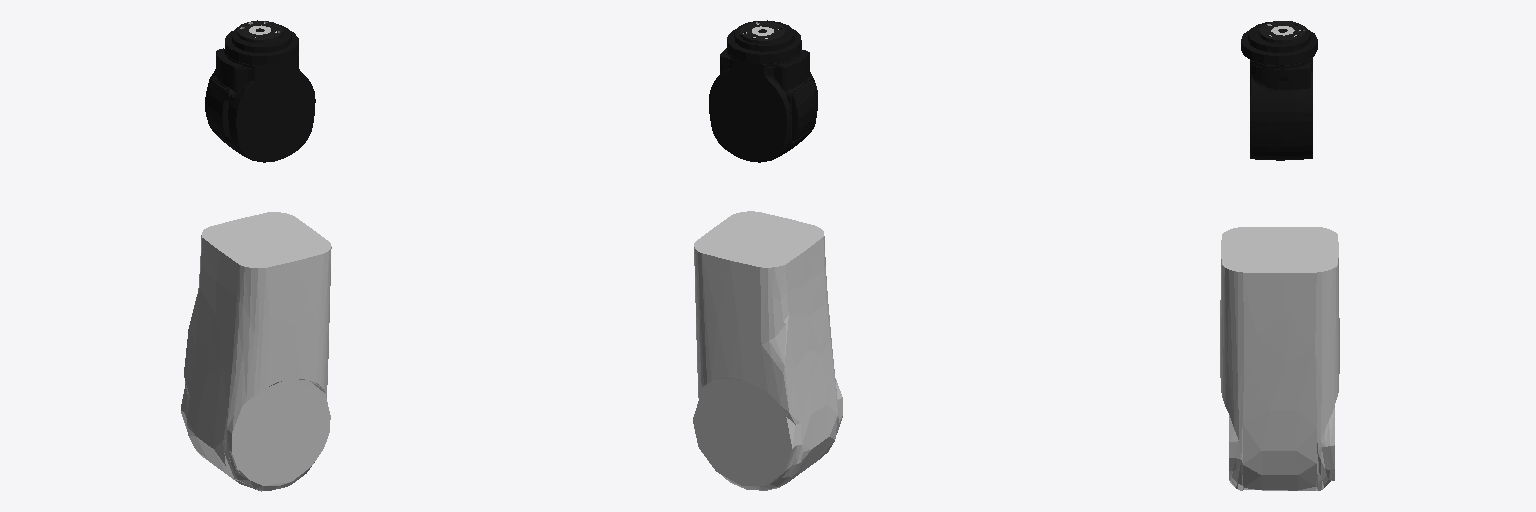
The robot description file, URDF, robot "DensoVS060v3":
<?xml version="1.0"?>
<robot name="DensoVS060v3">

<!-- <link name="world"/>

<joint name="world_to_base" type="fixed">
  <parent link="world"/>
  <child link="link0"/>
  <origin xyz="0 0 0.2" rpy="0 0 0"/>
</joint> -->

  <!-- Link 0 (base) -->
  <link name="link0">
    <visual>
      <geometry>
        <mesh filename="meshes/DensoVS060Link0.dae"/>
        <!-- <box size="0.05 0.05 0.2"/> -->
      </geometry>
    </visual>
  </link>

  <!-- Link 1 -->
  <link name="link1">
    <visual>
      <geometry>
        <mesh filename="meshes/DensoVS060Link1.dae"/>
        <!-- <box size="0.05 0.05 0.2"/> -->
      </geometry>
    </visual>
  </link>

  <!-- Joint 1 -->
  <joint name="joint1" type="revolute">
    <parent link="link0"/>
    <child link="link1"/>
    <!-- <origin xyz="0 0 0.148" rpy="1.5708 0 3.1416"/> -->
      <origin xyz="0 0 0.148" rpy="0 0 0"/>
    <axis xyz="0 0 1"/>
    <limit lower="-2.967" upper="2.967" effort="10" velocity="1"/>
  </joint>

  <!-- Link 2 -->
  <link name="link2">
    <visual>
      <geometry>
        <mesh filename="meshes/DensoVS060Link2.dae"/>
        <box size="0.05 0.05 0.2"/>
      </geometry>
    </visual>
  </link>

<link name="link1b" />
<joint name="link1_to_link1b" type="fixed">
  <parent link="link1"/>
  <child link="link1b"/>
  <origin xyz="0 0 0" rpy="-1.5708 0 0"/>
</joint>

<joint name="joint2" type="revolute">
  <parent link="link1b"/>
  <child link="link2"/>
  <origin xyz="0 0 0" rpy="0 0 -3.1416"/>
  <axis xyz="0 0 1"/>
  <limit lower="-2.0944" upper="2.0944" effort="10" velocity="1"/>
</joint>

  <!-- Joint 2
  <joint name="joint2" type="revolute">
    <parent link="link1"/>
    <child link="link2"/>
    <origin xyz="0 0 0" rpy="-1.5708 0 0"/>
    <axis xyz="0 0 1"/>
    <limit lower="-2.0944" upper="2.0944" effort="10" velocity="1"/>
  </joint> -->

  <!-- Link 3 -->
  <link name="link3">
    <visual>
      <geometry>
        <mesh filename="meshes/DensoVS060Link3.dae"/>
        <!-- <box size="0.05 0.05 0.2"/> -->
      </geometry>
    </visual>
  </link>

  <!-- Joint 3 -->
  <joint name="joint3" type="revolute">
    <parent link="link2"/>
    <child link="link3"/>
    <origin xyz="0 0.305 0" rpy="0 0 0"/>
    <axis xyz="0 0 1"/>
    <limit lower="-2.1817" upper="2.7053" effort="10" velocity="1"/>
  </joint>

  <!-- Link 4 -->
  <link name="link4">
    <visual>
      <geometry>
        <mesh filename="meshes/DensoVS060Link4.dae"/>
        <!-- <box size="0.05 0.05 0.2"/> -->
      </geometry>
    </visual>
  </link>

  <!-- Joint 4 -->
  <joint name="joint4" type="revolute">
    <parent link="link3"/>
    <child link="link4"/>
    <origin xyz="0 0 0" rpy="-1.5708 0 0"/>
    <axis xyz="0 0 1"/>
    <limit lower="-4.7124" upper="4.7124" effort="10" velocity="1"/>
  </joint>

  <!-- Link 5 -->
  <link name="link5">
    <visual>
      <geometry>
        <mesh filename="meshes/DensoVS060Link5.dae"/>
        <!-- <box size="0.05 0.05 0.2"/> -->
      </geometry>
    </visual>
  </link>

  <!-- Joint 5 -->
  <joint name="joint5" type="revolute">
    <parent link="link4"/>
    <child link="link5"/>
    <origin xyz="0 0 0.3" rpy="1.5708 0 0"/>
    <axis xyz="0 0 1"/>
    <limit lower="-2.0944" upper="2.0944" effort="10" velocity="1"/>
  </joint>

  <!-- Link 6 (end-effector) -->
  <link name="link6">
    <visual>
      <geometry>
        <mesh filename="meshes/DensoVS060Link6.dae"/>
        <!-- <box size="0.05 0.05 0.2"/> -->
      </geometry>
    </visual>
  </link>

  <!-- Joint 6 -->
  <joint name="joint6" type="revolute">
    <parent link="link5"/>
    <child link="link6"/>
    <origin xyz="0 0.06 0" rpy="-1.5708 0 0"/>
    <axis xyz="0 0 1"/>
    <limit lower="-6.2832" upper="6.2832" effort="10" velocity="1"/>
  </joint>

</robot>

--- Render facts (derived) ---
Views: 3 orthographic renders of the robot side by side, from view 1: azimuth 30°, elevation 25°; view 2: azimuth 150°, elevation 25°; view 3: azimuth 270°, elevation 25°.
Model DensoVS060v3 with 8 links and 7 joints (6 revolute, 1 fixed), rooted at link0, posed all joints at 0.
Links seen in each view (by area): view 1: link3, link5, link6; view 2: link3, link5, link6; view 3: link3, link5, link6.
Boxes of the visible links, box(x1,y1,x2,y2) form: link3: box(181, 212, 331, 491); link5: box(205, 25, 315, 162); link6: box(237, 20, 282, 42); link3: box(693, 211, 842, 490); link5: box(709, 20, 817, 162); link6: box(740, 21, 785, 43); link3: box(1220, 227, 1339, 490); link5: box(1241, 22, 1317, 160); link6: box(1259, 21, 1306, 43).
Bounding box of the posed robot: 0.1076 × 0.1004 × 0.4251 m (x, y, z).
Meshes: 7 distinct files referenced, 3 mesh visuals loaded (3 Collada DAE); not drawn: 4 (reference not matched to a file when rendering).